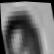correct: (0, 0, 52, 54)
